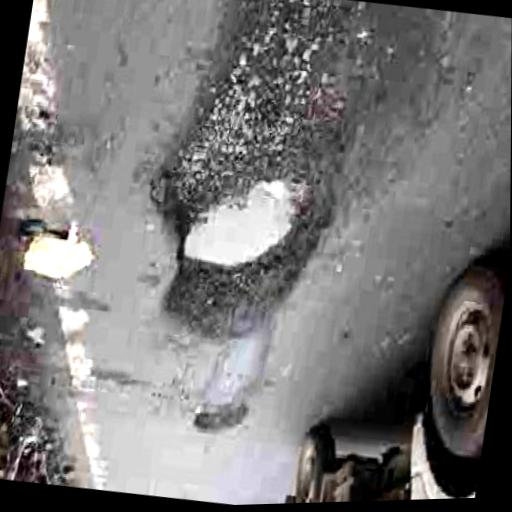pothole: (131, 0, 365, 360), (191, 397, 250, 444)
